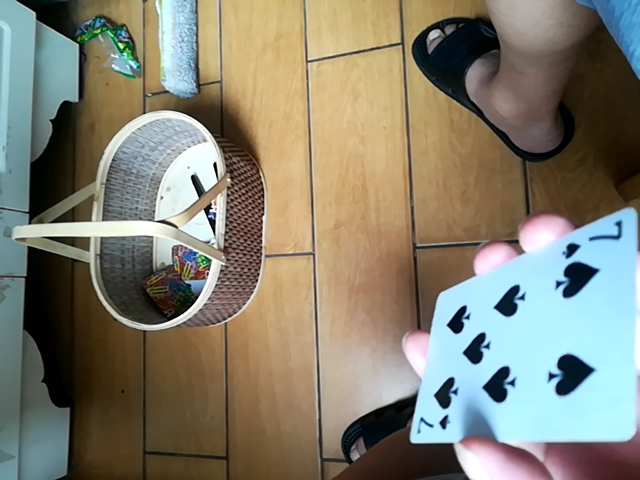ht 7: (409, 206, 639, 445)
